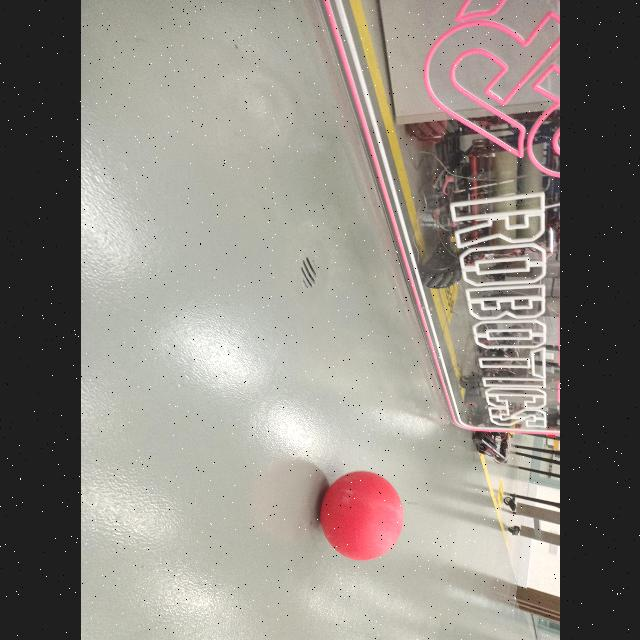R: (320, 471, 404, 562)
